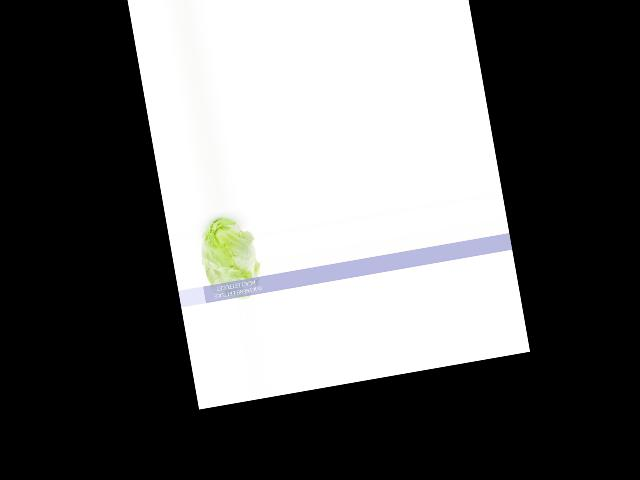lettuce: (196, 209, 265, 304)
